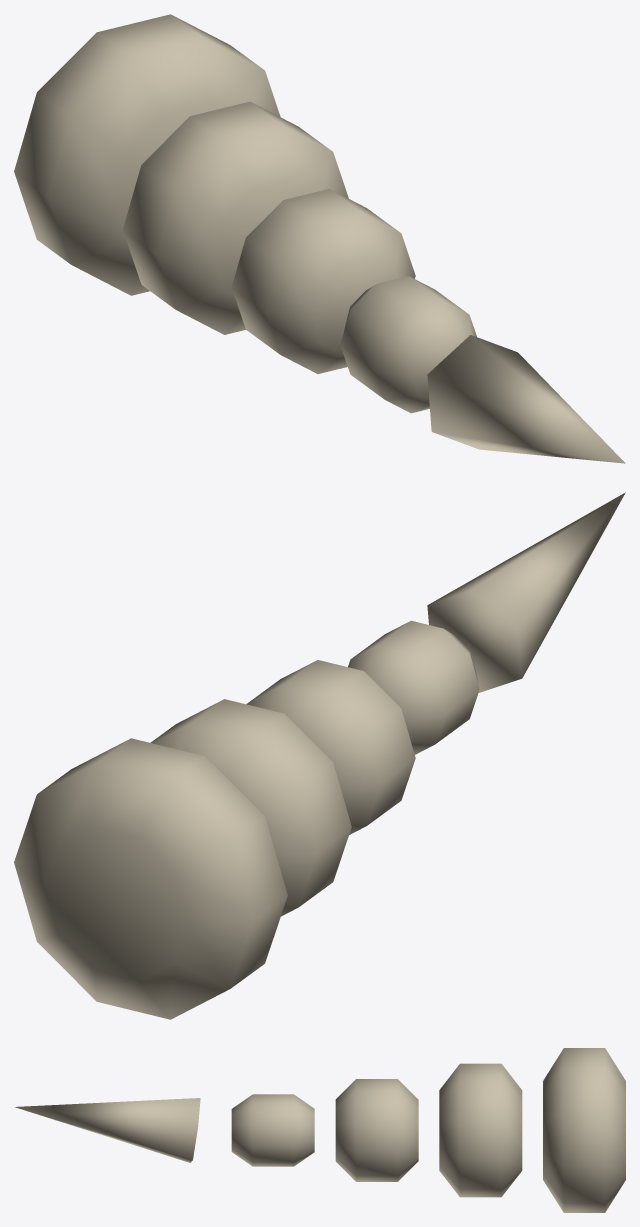
File: bone_serpent_tail.glb
The picture shows the model from 3 angles, top to bottom: view 1: azimuth 30°, elevation 25°; view 2: azimuth 150°, elevation 25°; view 3: azimuth 270°, elevation 25°; orthographic projection. The views are drawn at different scales.
Visible parts, largest first — view 1: bone_serpent_tail; view 2: bone_serpent_tail; view 3: bone_serpent_tail.
Part boxes in pixels (left/top/right/bottom): bone_serpent_tail: left=14, top=14, right=625, bottom=463; bone_serpent_tail: left=14, top=492, right=625, bottom=1019; bone_serpent_tail: left=15, top=1048, right=625, bottom=1212.
Size of the model in its own units: 0.32 by 0.3043 by 1.18.
